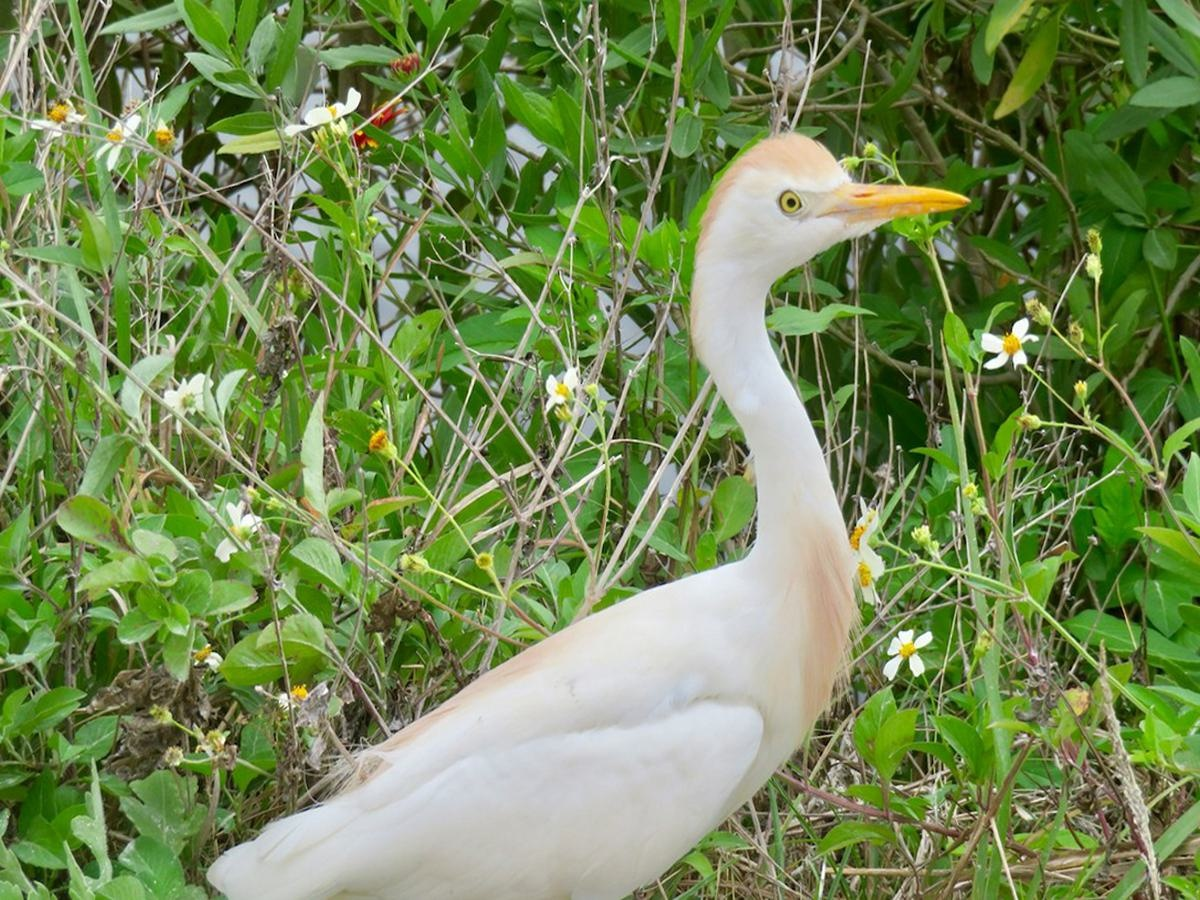egret: (215, 116, 979, 900)
